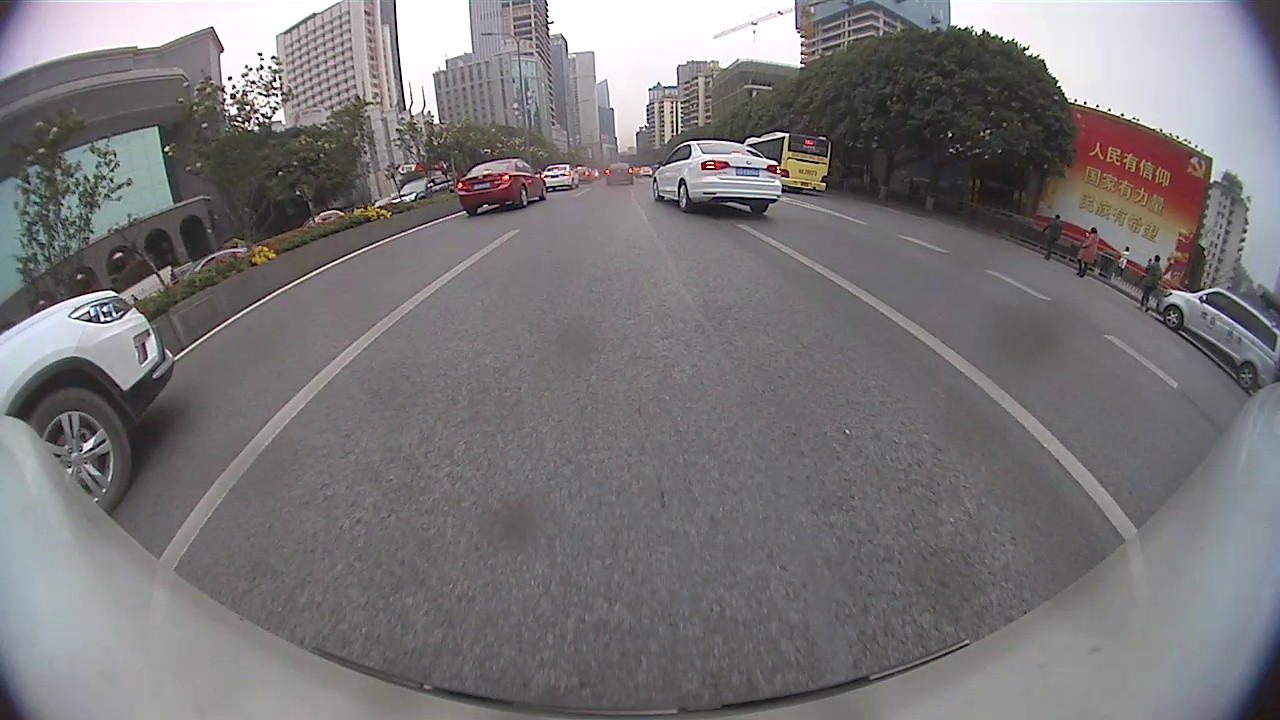bus: (741, 131, 831, 196)
car: (1, 290, 175, 515), (1156, 285, 1279, 393), (650, 138, 782, 215), (455, 158, 545, 215), (183, 244, 244, 275), (400, 172, 451, 199), (541, 160, 578, 192), (300, 208, 348, 225), (603, 163, 632, 188), (572, 164, 592, 187)
front: (32, 385, 134, 514), (1155, 299, 1193, 333), (650, 178, 661, 203)
person: (1083, 224, 1096, 279), (1144, 254, 1156, 308), (1048, 213, 1061, 261), (1119, 244, 1128, 276)
rear: (1236, 355, 1256, 403), (677, 179, 690, 212), (517, 185, 530, 206)
